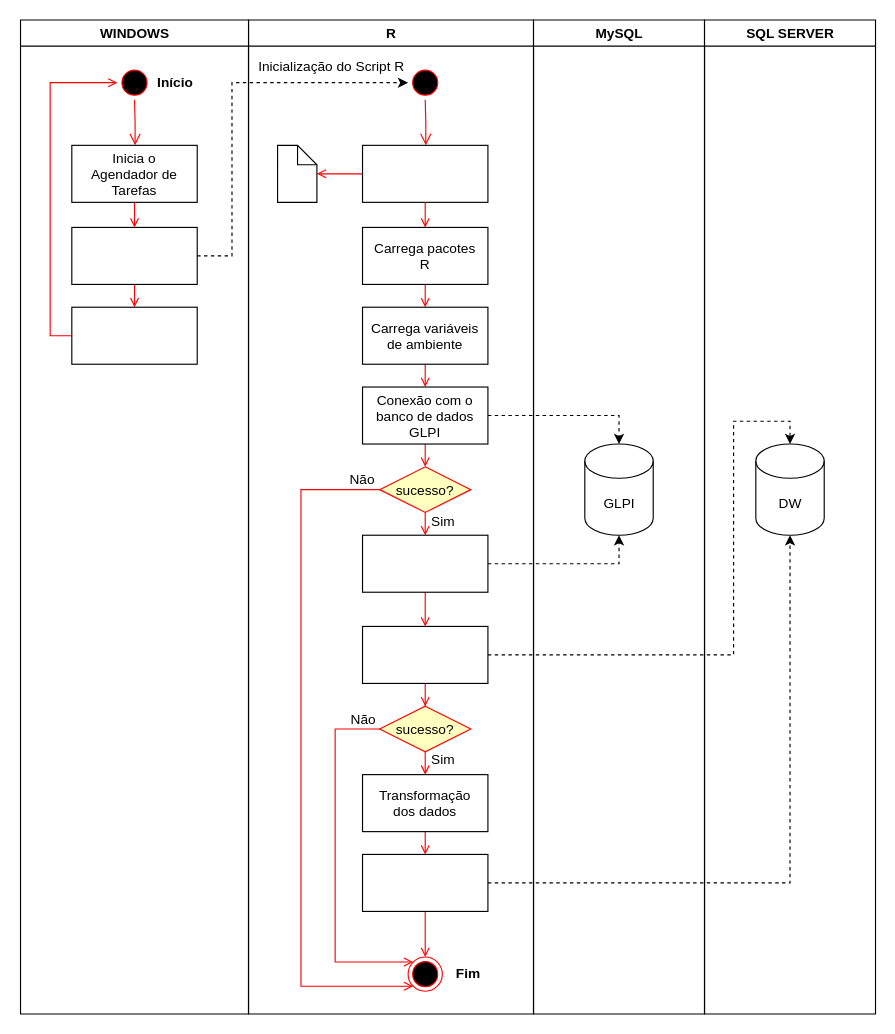
Image size: 895x1034. Some labels were removed from this diagram. The centre of each missing label's shape, as x and y in pixels:
"Carregamento dos dados no DW" goes at point (424, 882).
"Conexão com o banco de dados do DW" goes at point (424, 654).
"Cria função para gravação de log" goes at point (424, 173).
"Dispara a ação de execução de script" goes at point (134, 255).
"Entra em modo ocioso por 15 minutos" goes at point (134, 335).
"Extração dos dados do GLPI" goes at point (424, 563).
"Log" goes at point (296, 173).
